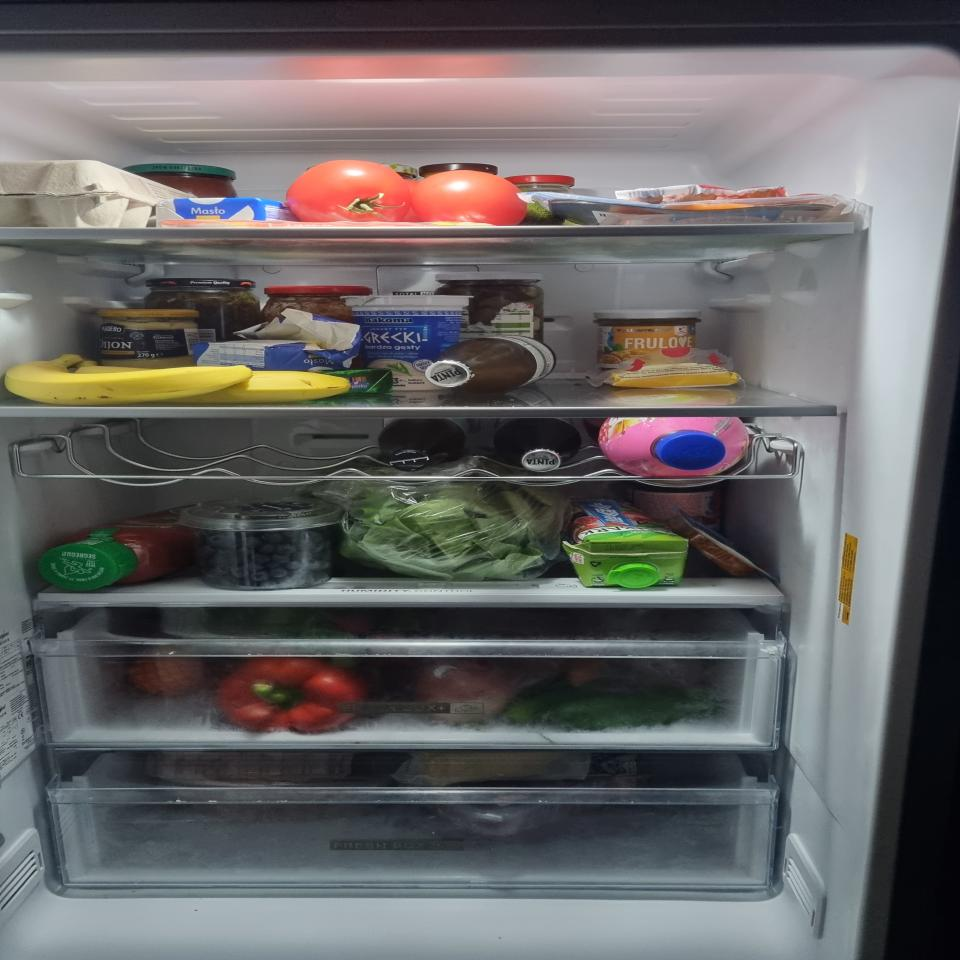Huevos: (0, 159, 199, 228)
Lechuga/Endivia: (297, 446, 575, 581)
Mantequilla: (192, 308, 362, 371), (156, 197, 298, 228), (313, 368, 395, 395)
Plátano: (3, 352, 351, 406)
Queso: (600, 362, 741, 388)
Tomate: (286, 160, 412, 222), (411, 170, 526, 226)
Yogur: (341, 295, 475, 391)
bell pepper: (213, 656, 370, 731)
blueberries: (178, 495, 346, 590)
ketchup: (37, 504, 199, 590)
mustard: (95, 308, 199, 370)
orange: (130, 657, 206, 696)
